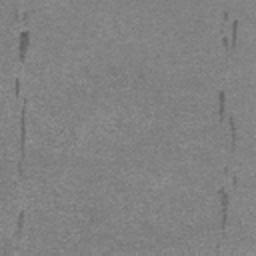Red iron sheet: (19, 31, 29, 62), (218, 189, 228, 213), (21, 108, 26, 151), (232, 20, 238, 48), (219, 91, 225, 116), (17, 211, 24, 228), (15, 79, 20, 97)
